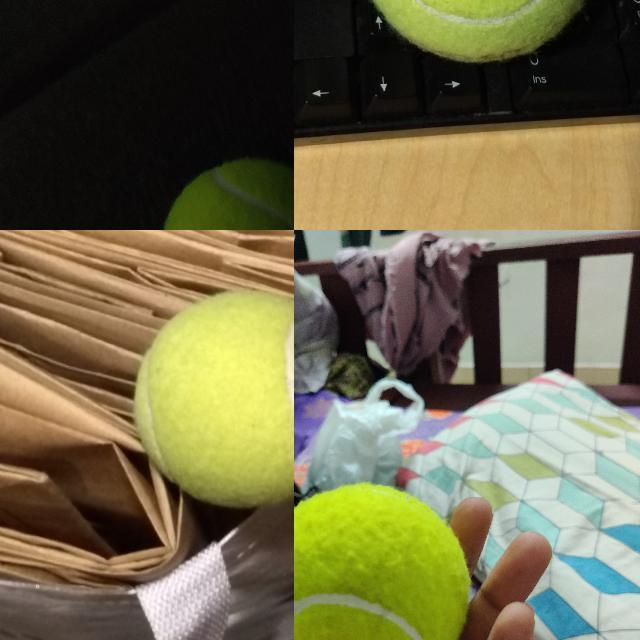tennis-ball: (131, 289, 293, 511), (294, 482, 471, 639), (357, 0, 599, 64), (161, 157, 293, 229)
